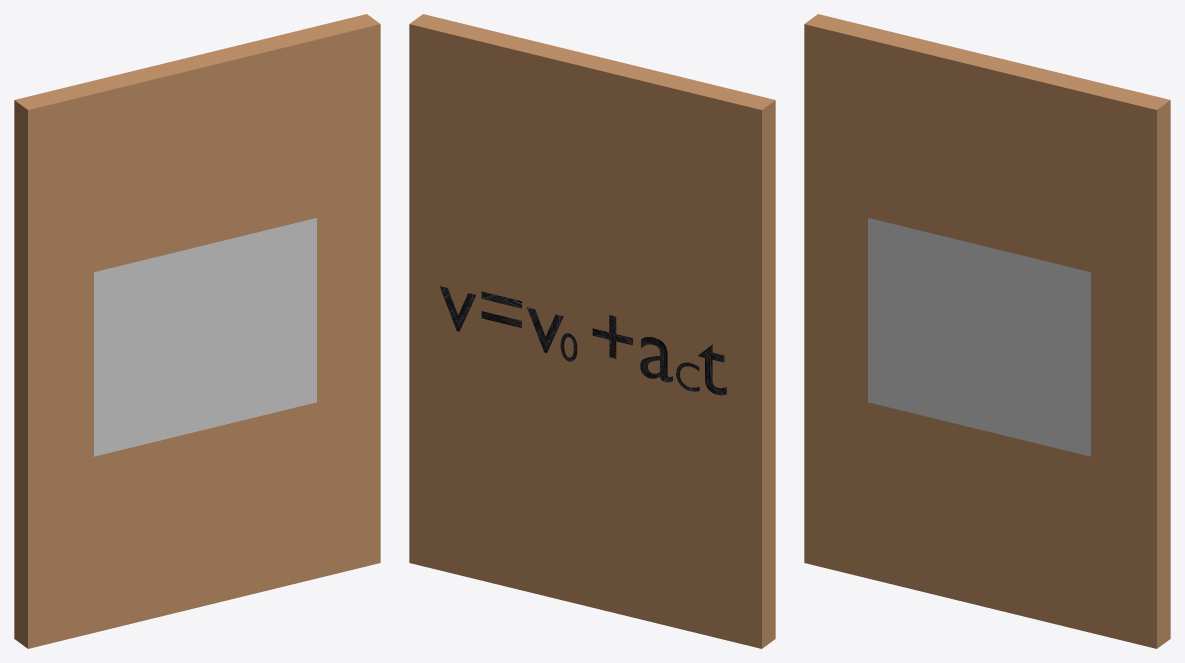
File: CARTA9B.obj
3 renders of one model, left to right at view 1: azimuth 30°, elevation 25°; view 2: azimuth 150°, elevation 25°; view 3: azimuth 330°, elevation 25°, orthographic.
Parts seen in each view (by area): view 1: Cube; view 2: Cube; view 3: Cube.
Boxes of the visible parts, x1,y1,x2,y2 form: Cube: [14, 14, 380, 648]; Cube: [409, 14, 775, 648]; Cube: [804, 14, 1170, 648].
Bounding box in the file's own units: 2 × 2.92 × 0.1639.
4 materials, 3 textured.
